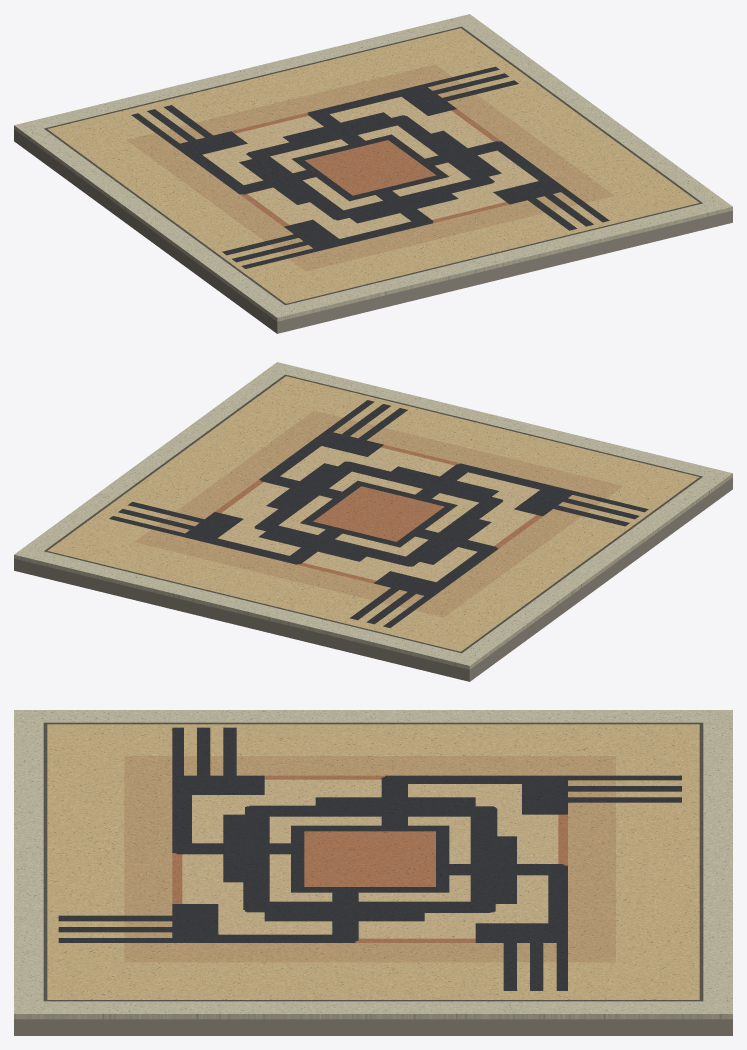
Rendered from bridge-lobby-floor-near.glb.
3 views of the same model, one above another, from view 1: azimuth 30°, elevation 25°; view 2: azimuth 150°, elevation 25°; view 3: azimuth 270°, elevation 25° (orthographic). The views are drawn at different scales.
Visible parts, largest first — view 1: 大桥公寓门厅方形几何拼花地面; view 2: 大桥公寓门厅方形几何拼花地面; view 3: 大桥公寓门厅方形几何拼花地面.
Part boxes in pixels (left/top/right/bottom): 大桥公寓门厅方形几何拼花地面: left=14, top=14, right=732, bottom=333; 大桥公寓门厅方形几何拼花地面: left=14, top=362, right=732, bottom=681; 大桥公寓门厅方形几何拼花地面: left=14, top=710, right=732, bottom=1035.
Bounding box in the file's own units: 1.96 × 0.066 × 1.96.
Materials: 8 (7 with a texture image).
